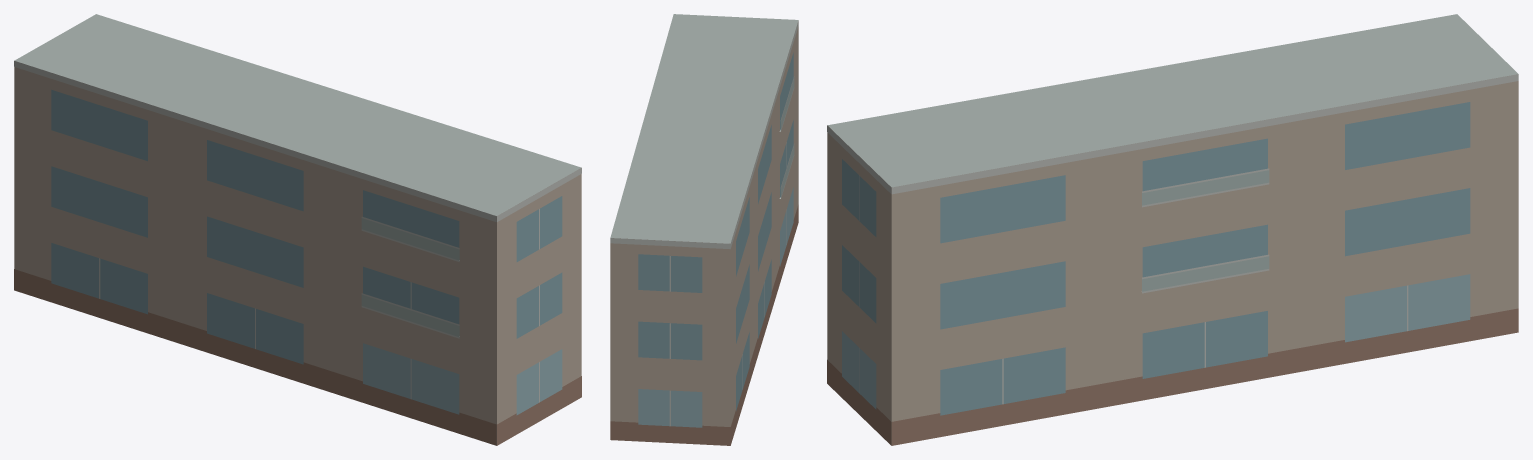
Rendered from survey-upis-32959193.glb.
3 views of the same model, side by side, from view 1: azimuth 30°, elevation 25°; view 2: azimuth 150°, elevation 25°; view 3: azimuth 270°, elevation 25° (orthographic). The views are drawn at different scales.
Parts seen in each view (by area): view 1: survey-upis-32959193.tmp; view 2: survey-upis-32959193.tmp; view 3: survey-upis-32959193.tmp.
Part boxes in pixels (<box>): survey-upis-32959193.tmp: <box>14,14,581,445</box>; survey-upis-32959193.tmp: <box>610,14,798,445</box>; survey-upis-32959193.tmp: <box>827,14,1518,445</box>.
Bounding box in the file's own units: 13.19 × 9.15 × 22.2.
